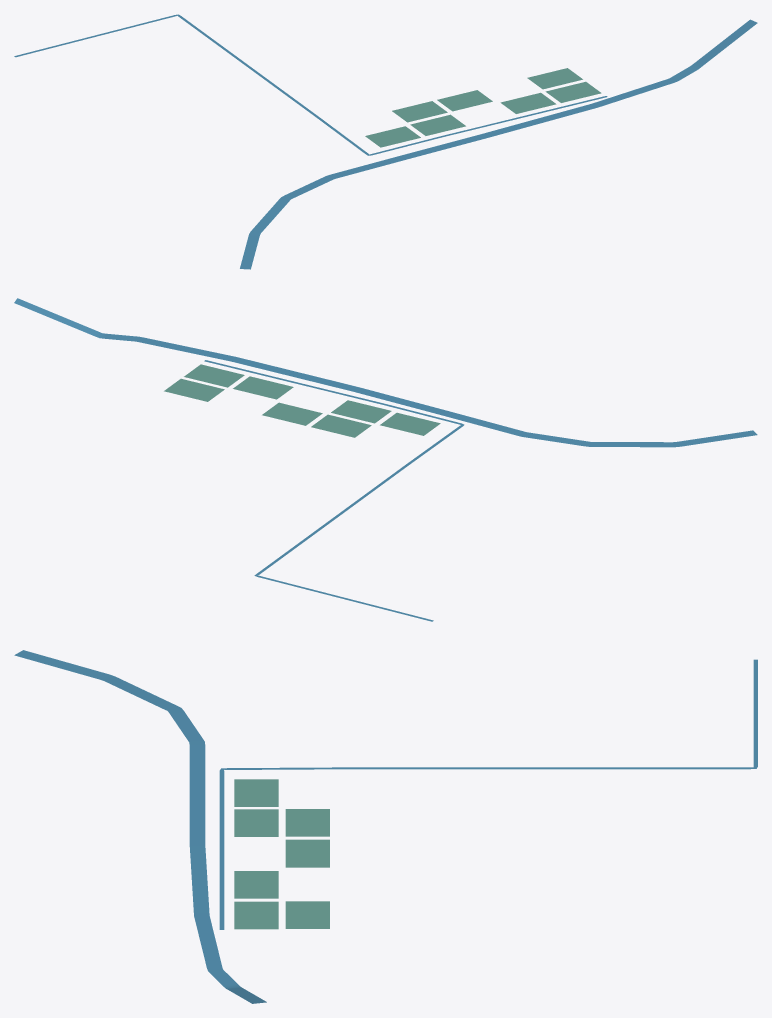
Rendered from SM_Edo_Water.fbx.
The picture shows the model from 3 angles, top to bottom: view 1: azimuth 30°, elevation 25°; view 2: azimuth 150°, elevation 25°; view 3: azimuth 270°, elevation 25°; orthographic projection. The views are drawn at different scales.
Visible parts, largest first — view 1: SM_Edo_Water; view 2: SM_Edo_Water; view 3: SM_Edo_Water.
Boxes of the visible parts, x1,y1,x2,y2 form: SM_Edo_Water: (14, 14, 757, 269); SM_Edo_Water: (14, 298, 757, 621); SM_Edo_Water: (14, 650, 757, 1003).
Size of the model in its own units: 434 by 27.37 by 333.
